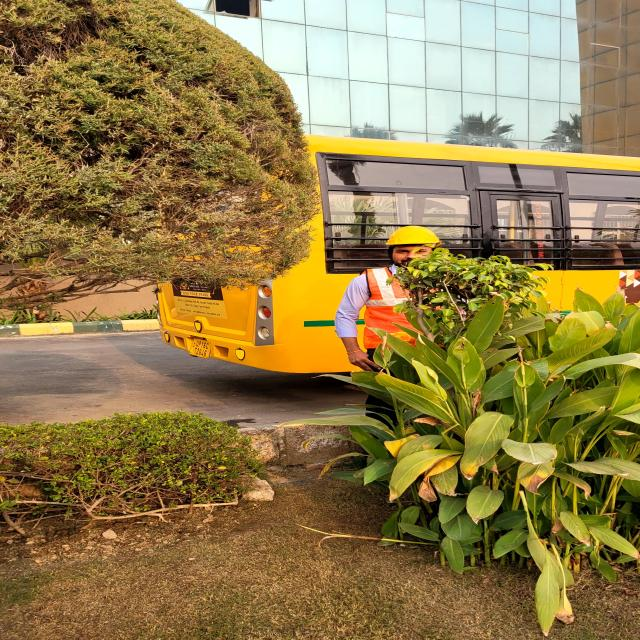safe: (318, 224, 456, 449)
